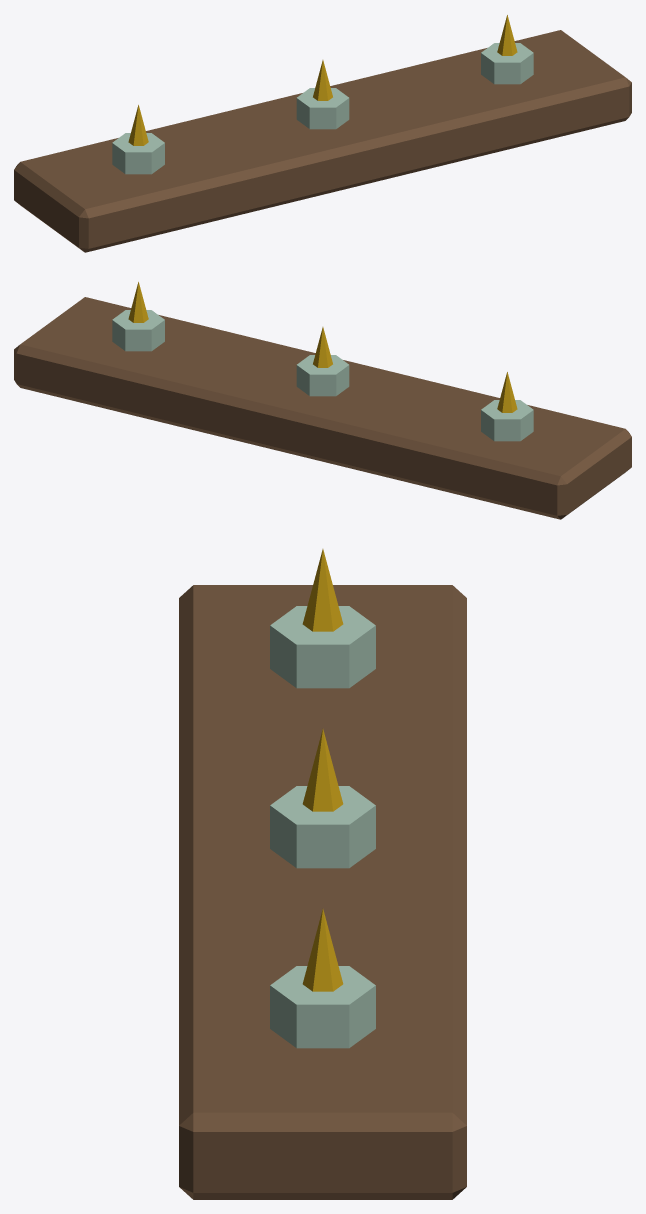
The model's file is candle-holder-28.glb.
3 views of the same model, one above another, from view 1: azimuth 30°, elevation 25°; view 2: azimuth 150°, elevation 25°; view 3: azimuth 270°, elevation 25° (orthographic). The views are drawn at different scales.
Parts seen in each view (by area): view 1: candle_holder_28; view 2: candle_holder_28; view 3: candle_holder_28.
Boxes of the visible parts, x1,y1,x2,y2 form: candle_holder_28: (14, 15, 631, 252); candle_holder_28: (14, 282, 631, 519); candle_holder_28: (179, 549, 466, 1199).
Size of the model in its own units: 0.5318 by 0.0955 by 0.12.
